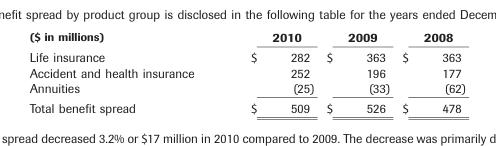table: (28, 29, 464, 115)
table column: (28, 29, 221, 115), (221, 29, 319, 115), (319, 29, 395, 115), (395, 29, 464, 115)
table column header: (28, 29, 464, 47)
table row: (28, 29, 464, 47), (28, 79, 464, 97), (28, 97, 464, 115), (28, 47, 464, 64), (28, 64, 464, 79)
